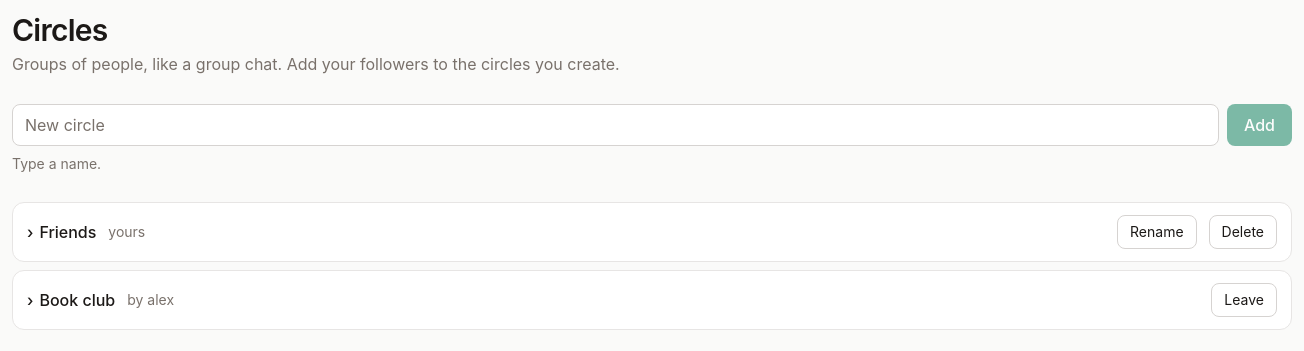
Circles › a circle that no longer exists leaves the list
Click the button with aria-label "Rename Friends" at [1157, 232], box [1117, 215, 1196, 249]
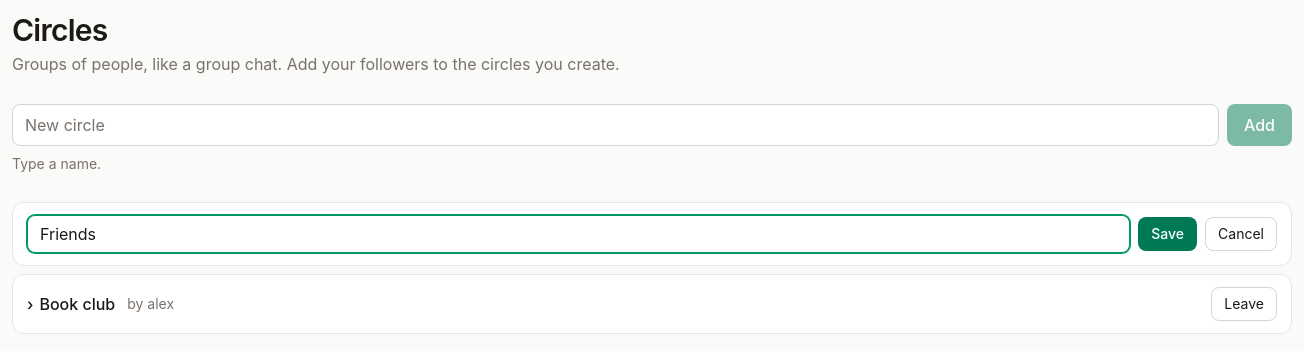
Type "!" into the field named "New name for Friends" at [579, 234], box [27, 215, 1130, 253]
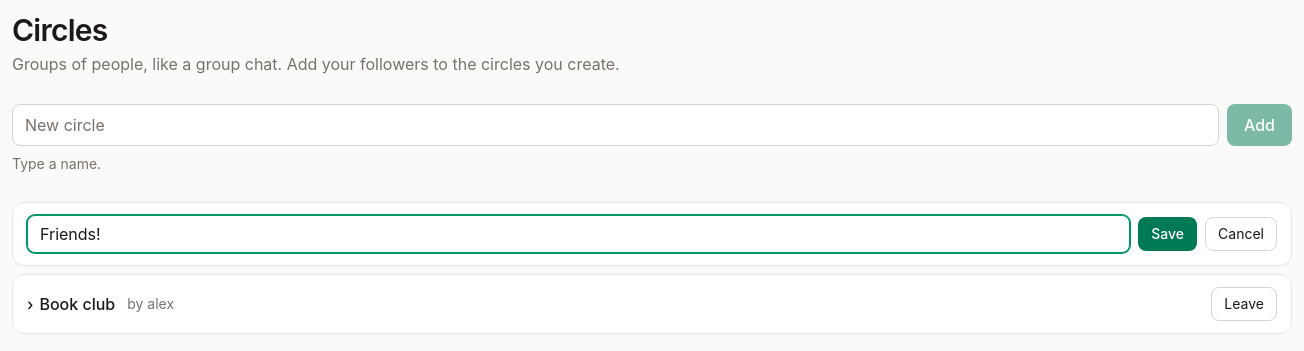
Click the button "Save" at [1168, 234], box [1138, 217, 1197, 251]
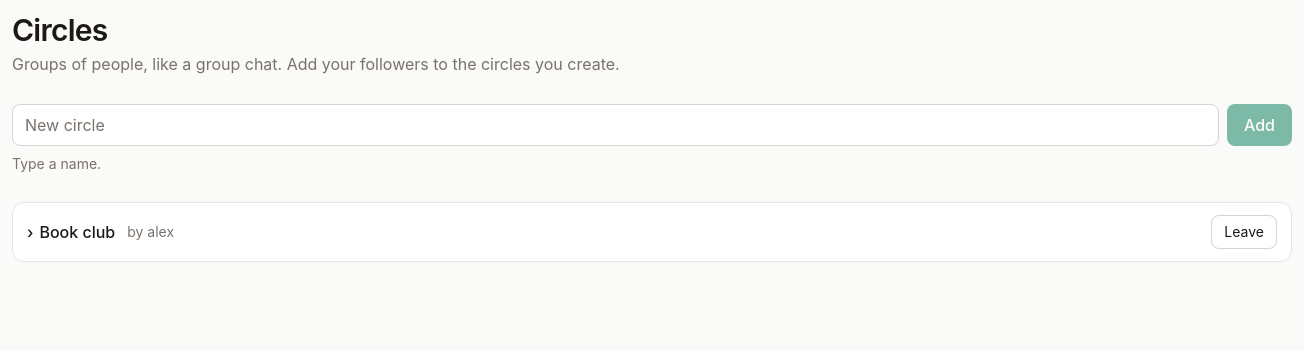
Expected: the button "Friends" is not shown
Note: Leaving a circle that is already gone counts as done: no error, and focus moves on.
Click the button with aria-label "Leave Book club" at [1244, 232], box [1211, 215, 1277, 249]
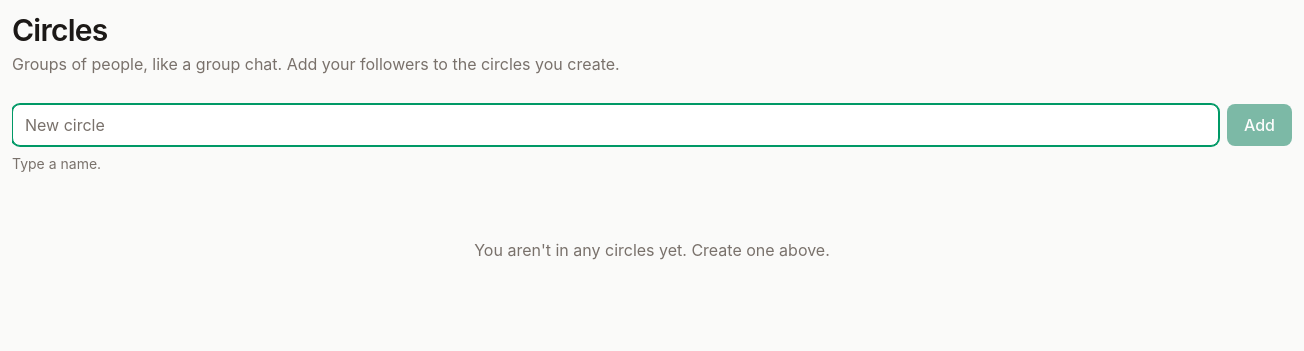
Expected: the button "Book club" is gone
